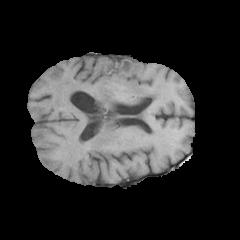glioma: (55, 60, 163, 117)
